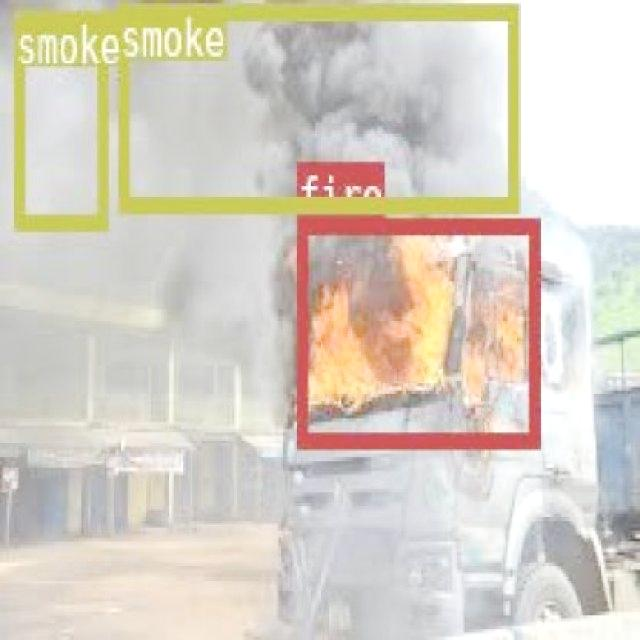fire: (294, 218, 538, 444)
smoke: (117, 1, 517, 210), (12, 10, 106, 227)
